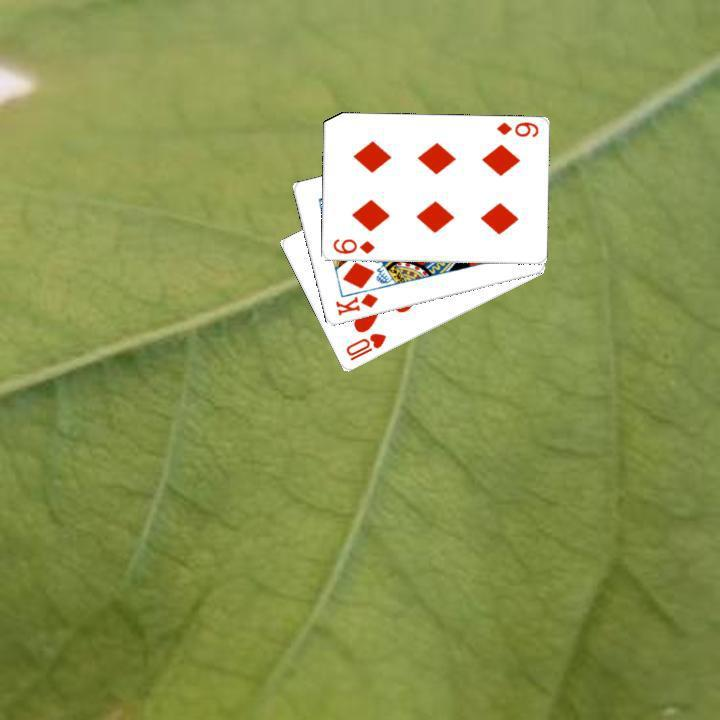10: (341, 329, 388, 363)
6: (328, 235, 376, 256), (492, 118, 540, 139)
K: (331, 289, 380, 318)
